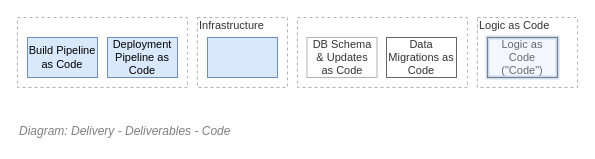
This 595x159 diagram has some shape labels left out. Each missing label, with the box of its shape:
Data as Code: (296, 16, 468, 88)
Infrastructure as Code: (206, 36, 278, 78)
Pipeline Code: (16, 16, 188, 88)
